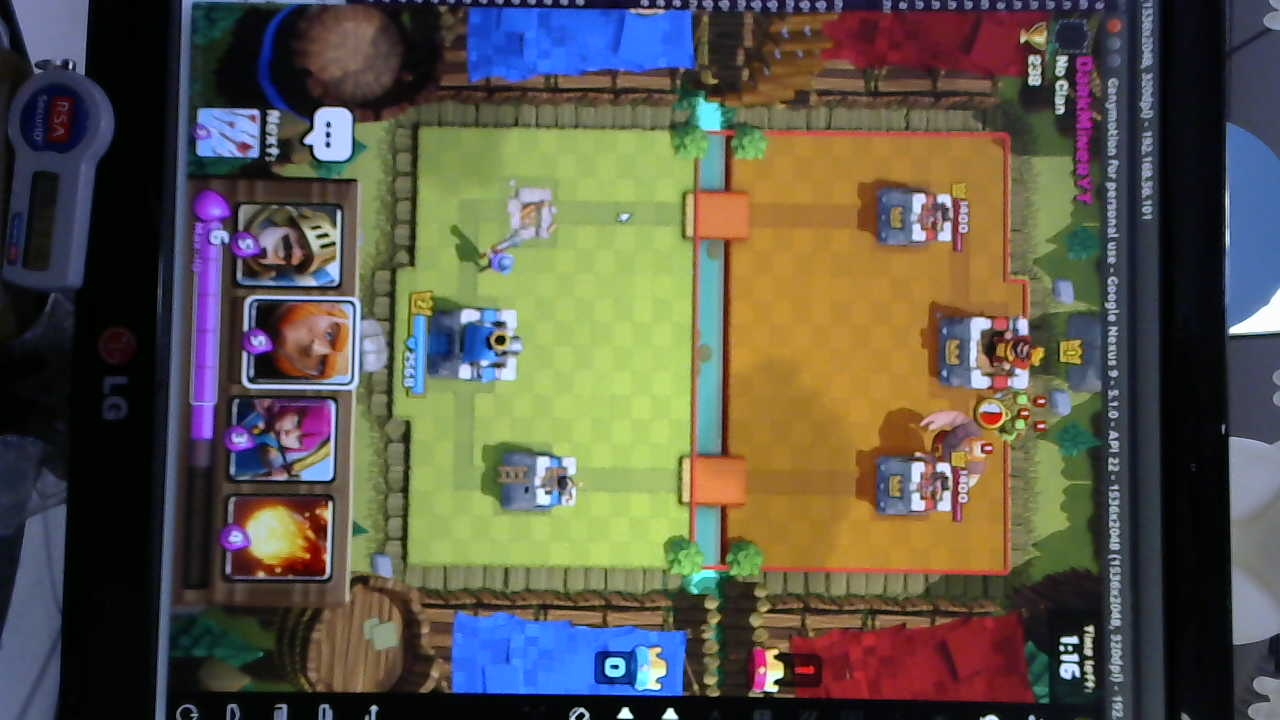arena: (497, 448, 583, 514)
darena: (502, 175, 561, 248)
earena: (872, 186, 956, 247), (877, 455, 953, 517)
eking: (935, 315, 1041, 392)
giant: (921, 405, 988, 498)
king: (426, 302, 528, 385)
musketeer: (470, 233, 523, 275)
speargoblins: (990, 387, 1046, 446)
